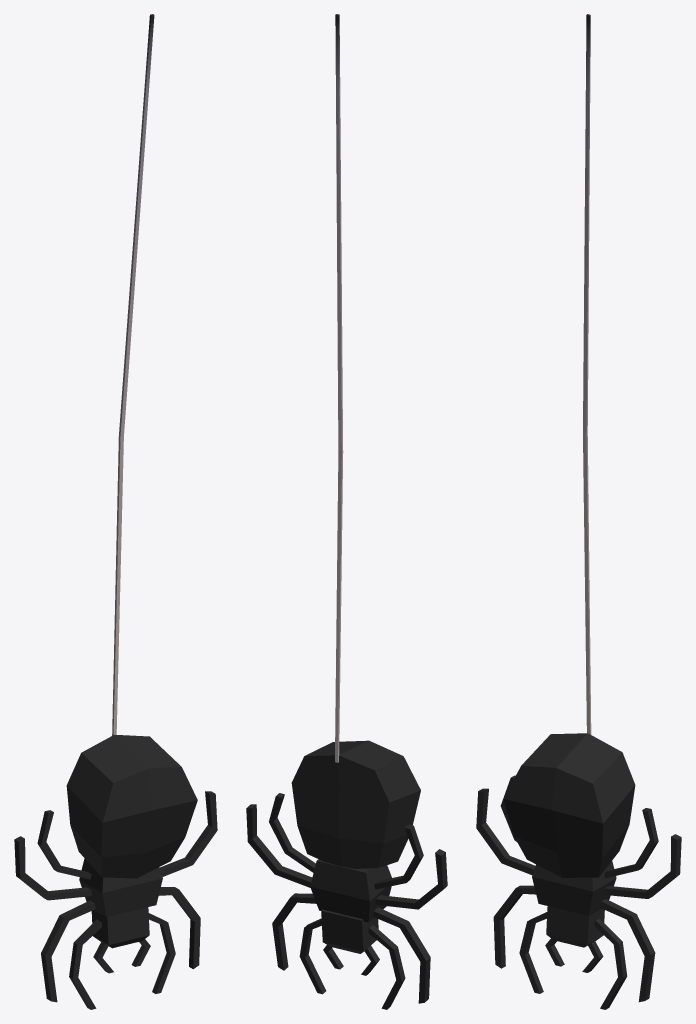
File: HWN20_Spider_02.glb
3 renders of one model, left to right at view 1: azimuth 30°, elevation 25°; view 2: azimuth 150°, elevation 25°; view 3: azimuth 330°, elevation 25°, orthographic.
Visible parts, largest first — view 1: HWN20_Spider_02; view 2: HWN20_Spider_02; view 3: HWN20_Spider_02.
Part boxes in pixels (x1,y1,x2,y2): HWN20_Spider_02: (14, 14, 217, 1009); HWN20_Spider_02: (246, 14, 447, 1009); HWN20_Spider_02: (476, 14, 681, 1009).
Bounding box in the file's own units: 0.0986 × 0.4705 × 0.0329.
1 material, 1 textured.
